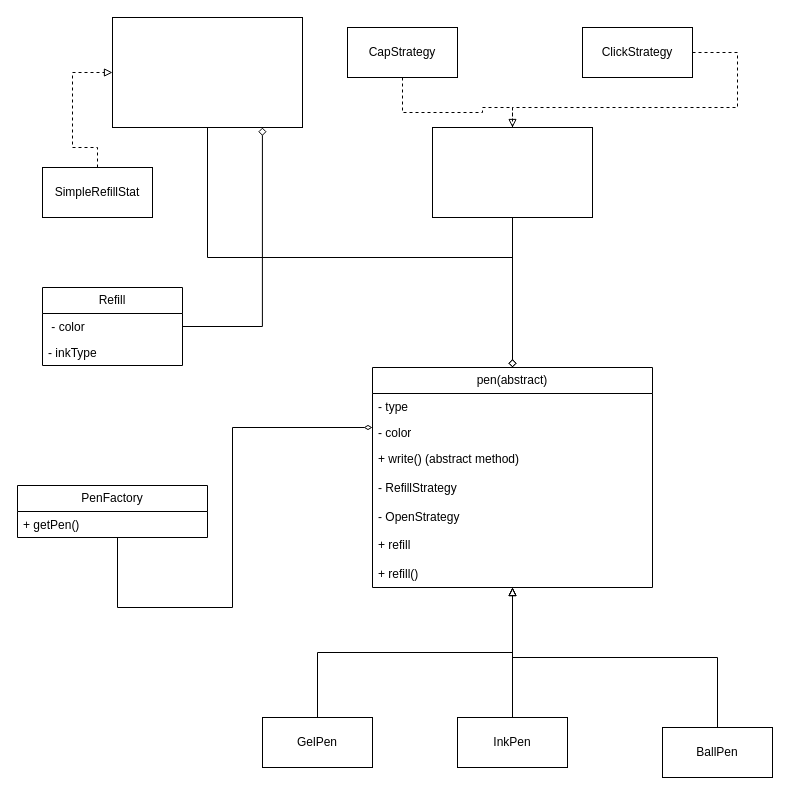
Some shapes in this 790 by 795 pixel diagram are drawn without their labels. The centre of each missing label's shape, as x and y in pixels:
"«interface» OpenStrategy open() close()" belongs at point (512, 172).
"«interface» RefillStrategy refill()" belongs at point (207, 72).
